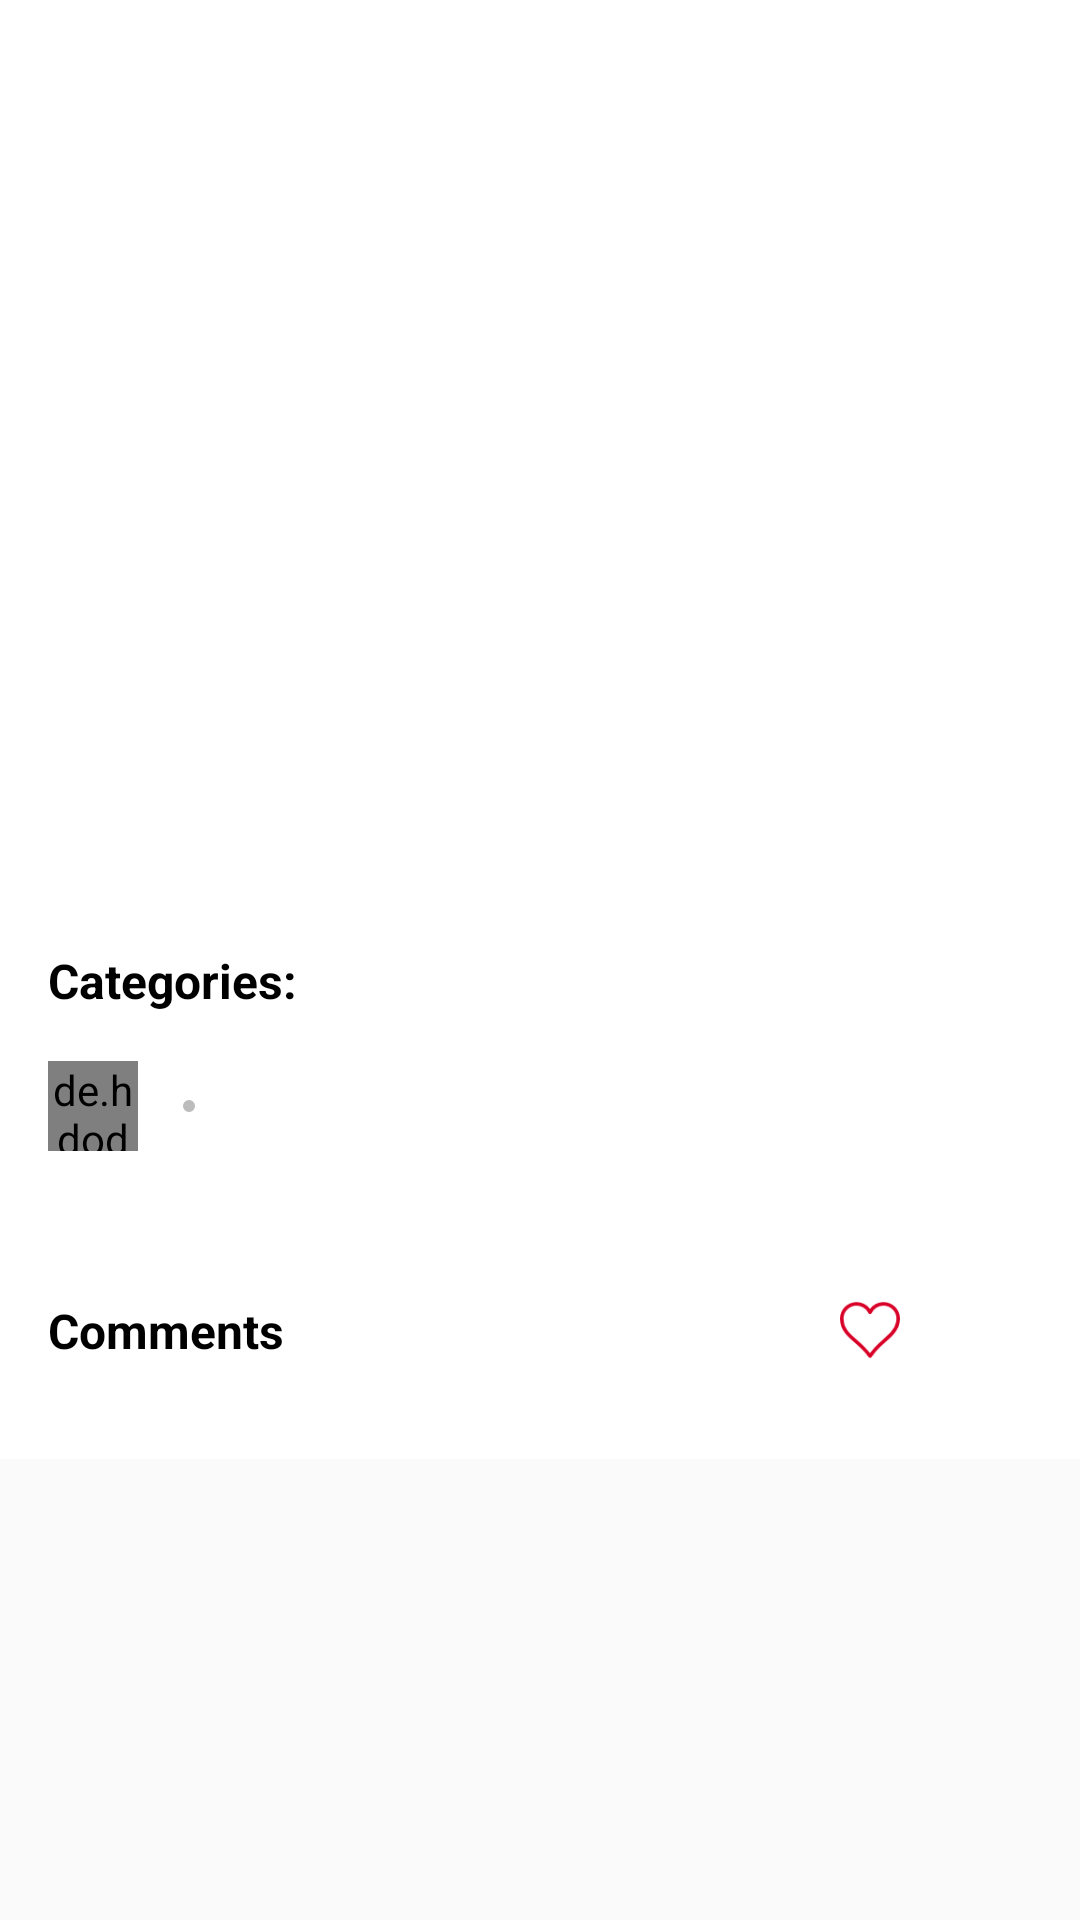

Icons on this 1080*1920 Android screen, each with its box as [x1,y1,x2,y2]:
heart: [840,1302,900,1358]
